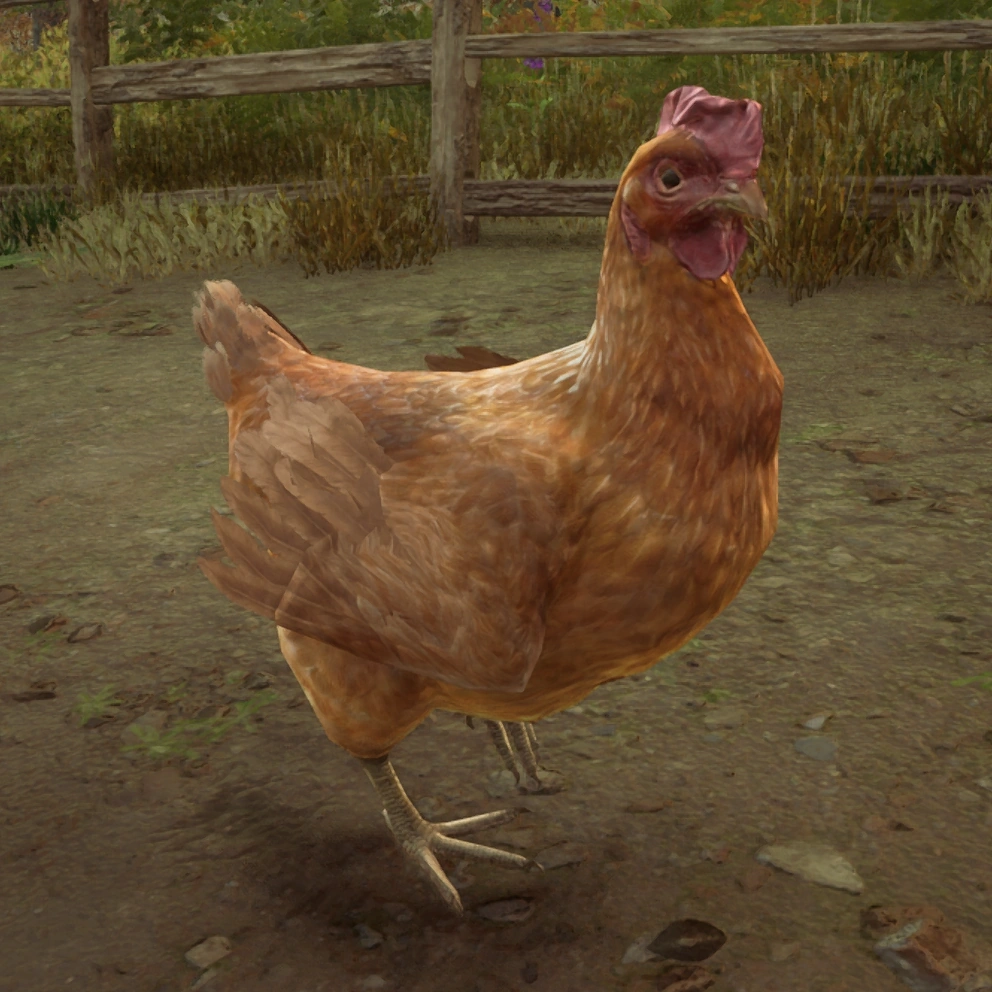chicken: (188, 86, 790, 883)
